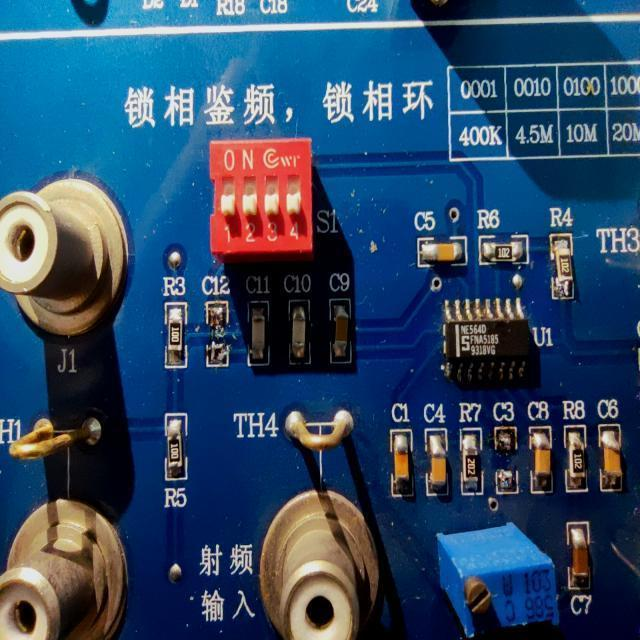Missing component: (200, 274, 233, 371), (492, 401, 520, 496)
